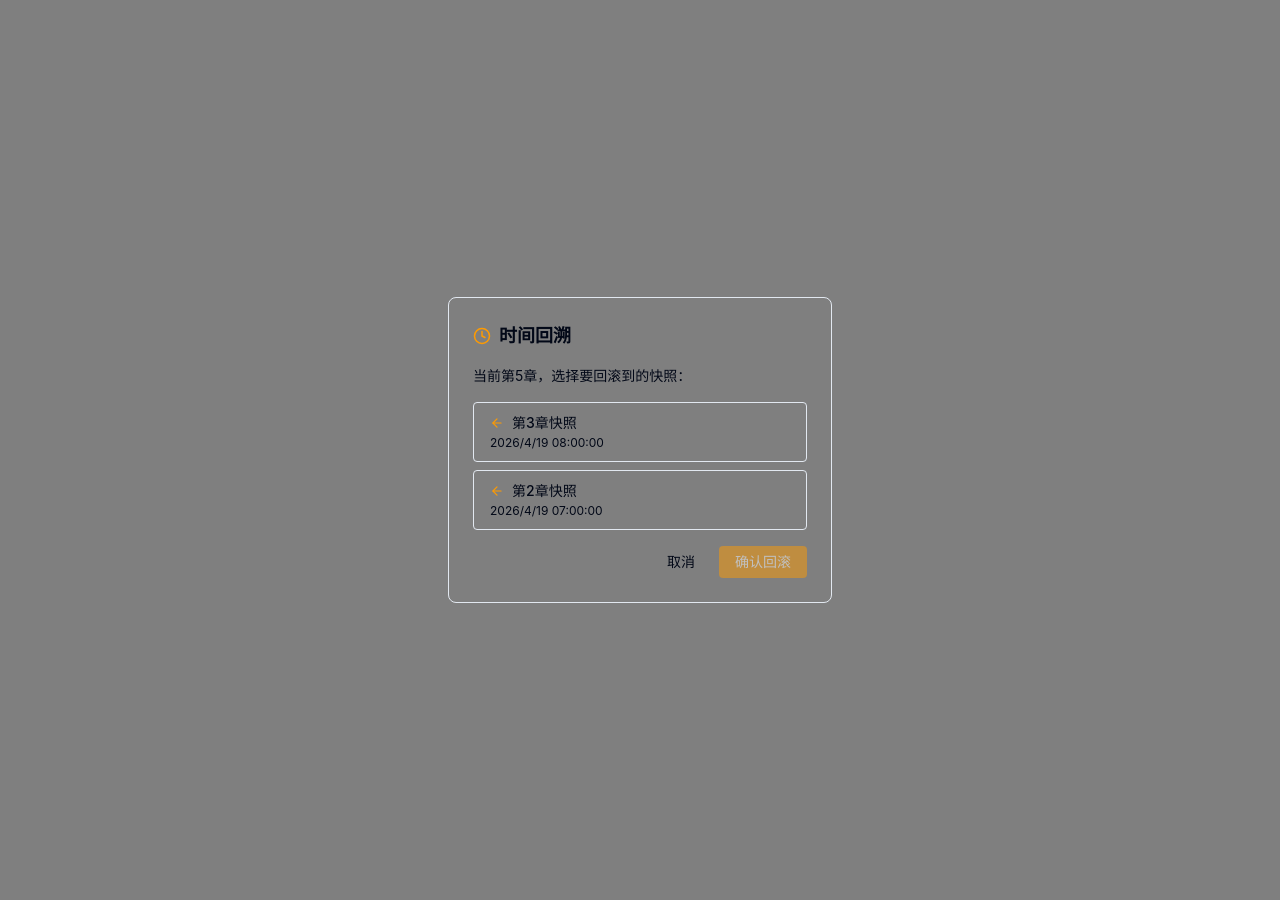
Scenario: TimeDial › shows dial rotation progress indicator
# Must select a snapshot first to show the dial
Click the text "第3章快照": (544, 423) top-left (512, 413), bottom-right (577, 433)
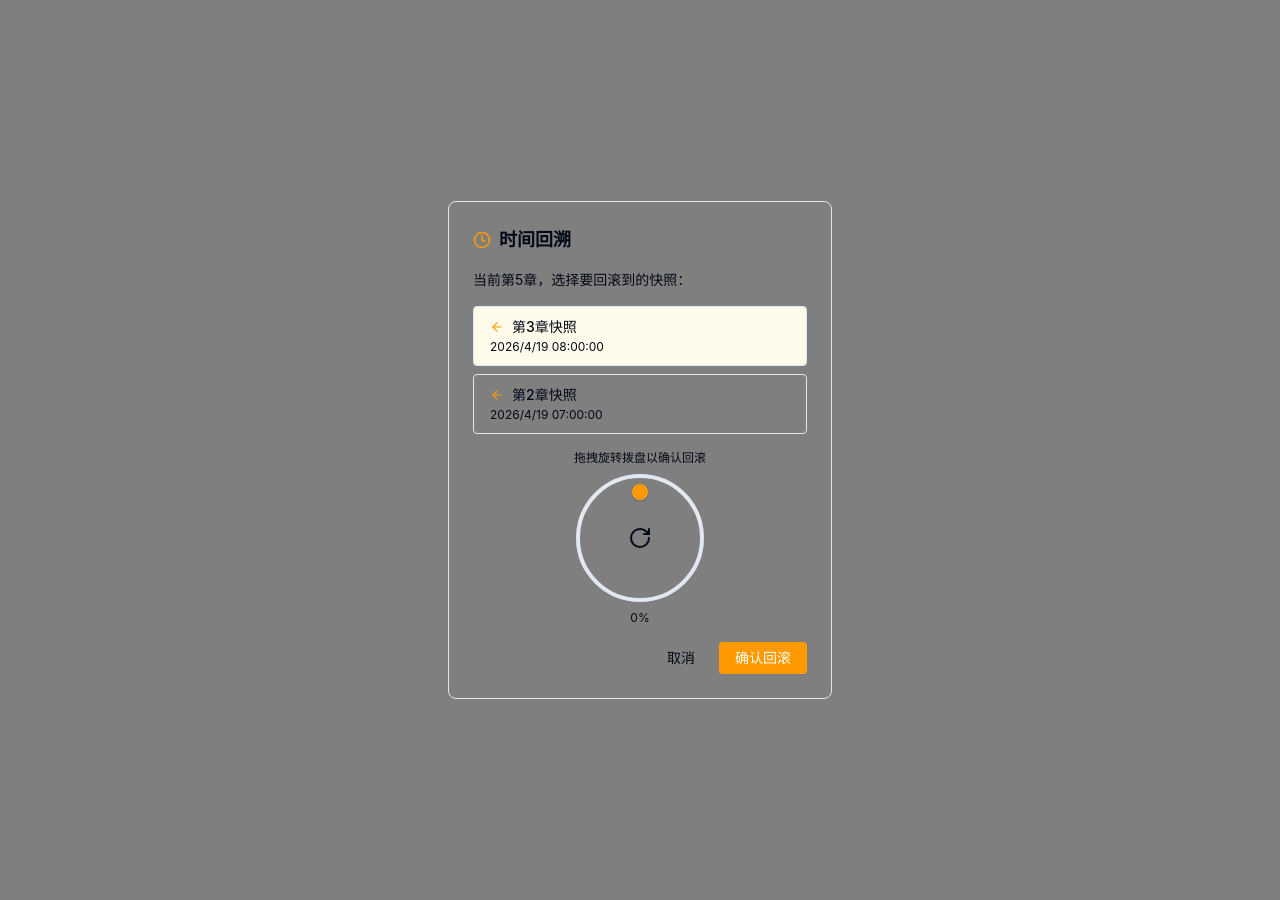
Result: the text "拖拽旋转拨盘以确认回滚" is shown at top-left (574, 450), bottom-right (706, 465)
